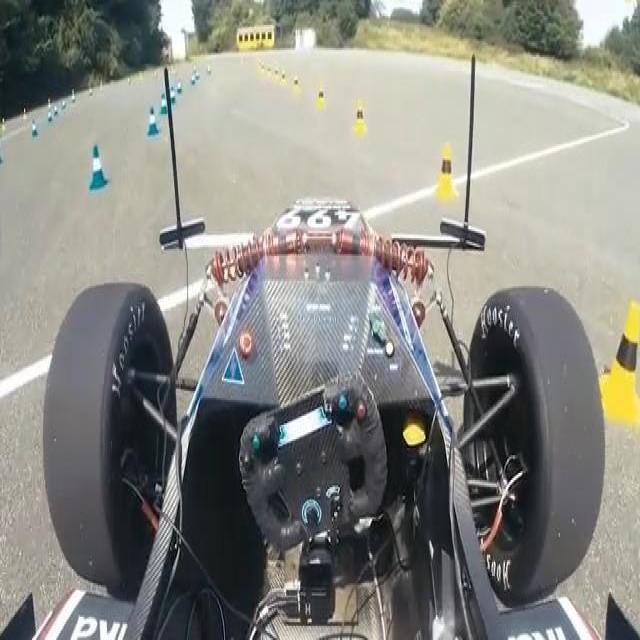blue_cone: (80, 132, 115, 200), (136, 98, 158, 144)
yellow_cone: (599, 295, 640, 423), (427, 126, 467, 212), (350, 91, 374, 147), (311, 74, 329, 126), (291, 62, 304, 100)
